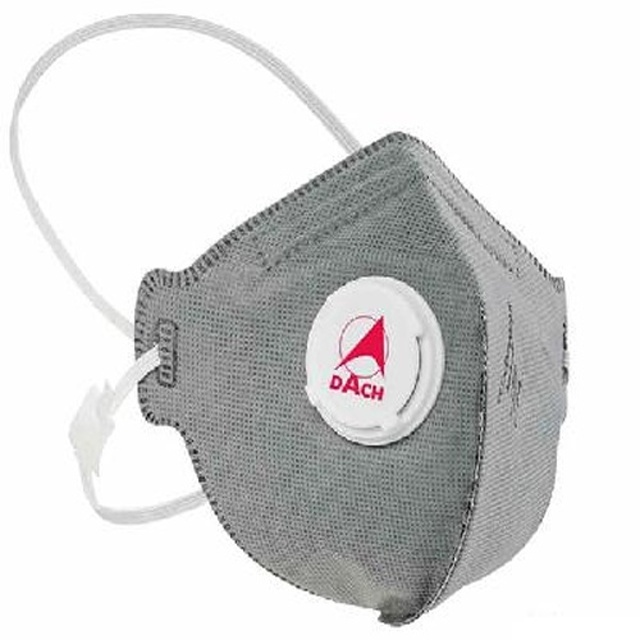mask: (9, 11, 577, 631)
